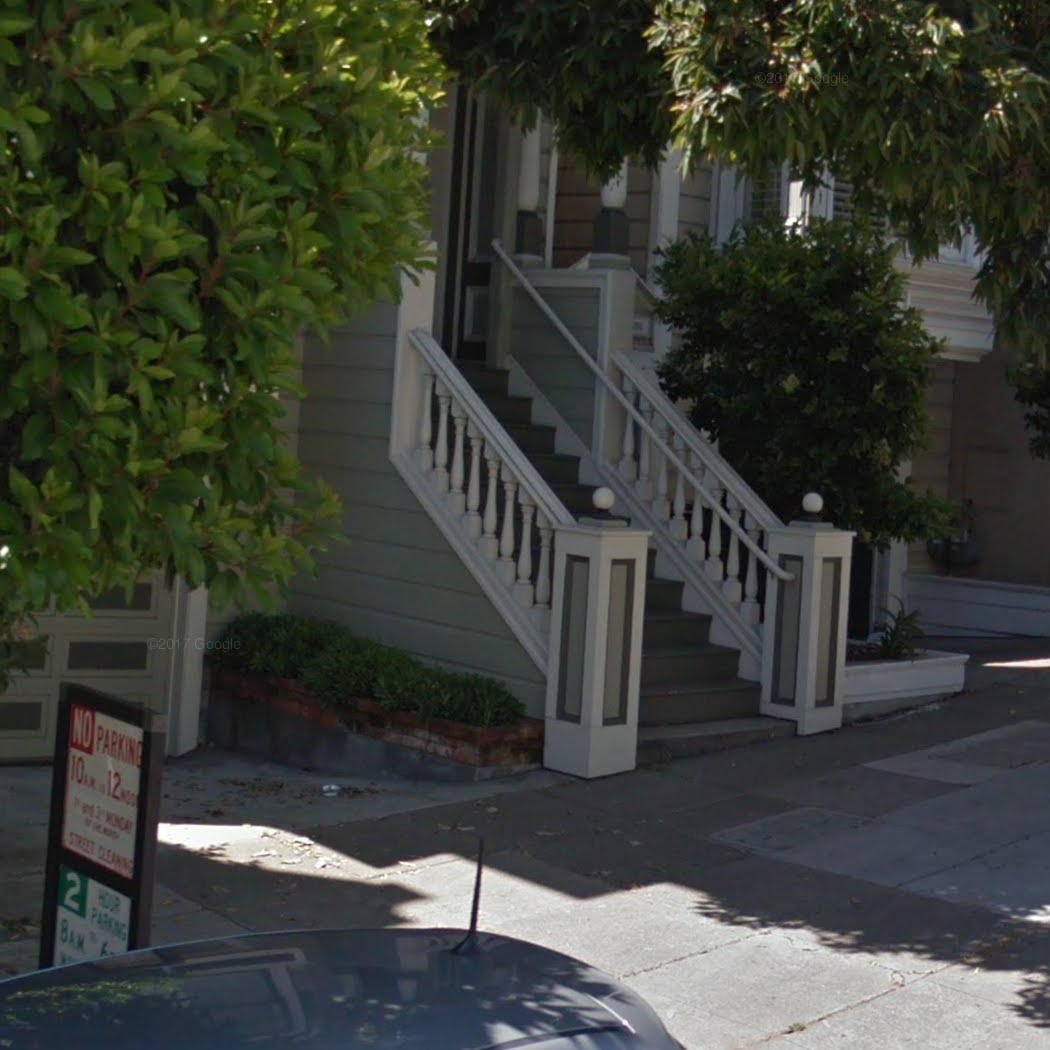2 Hour Parking: (45, 857, 144, 950)
No Parking: (56, 694, 154, 884)
